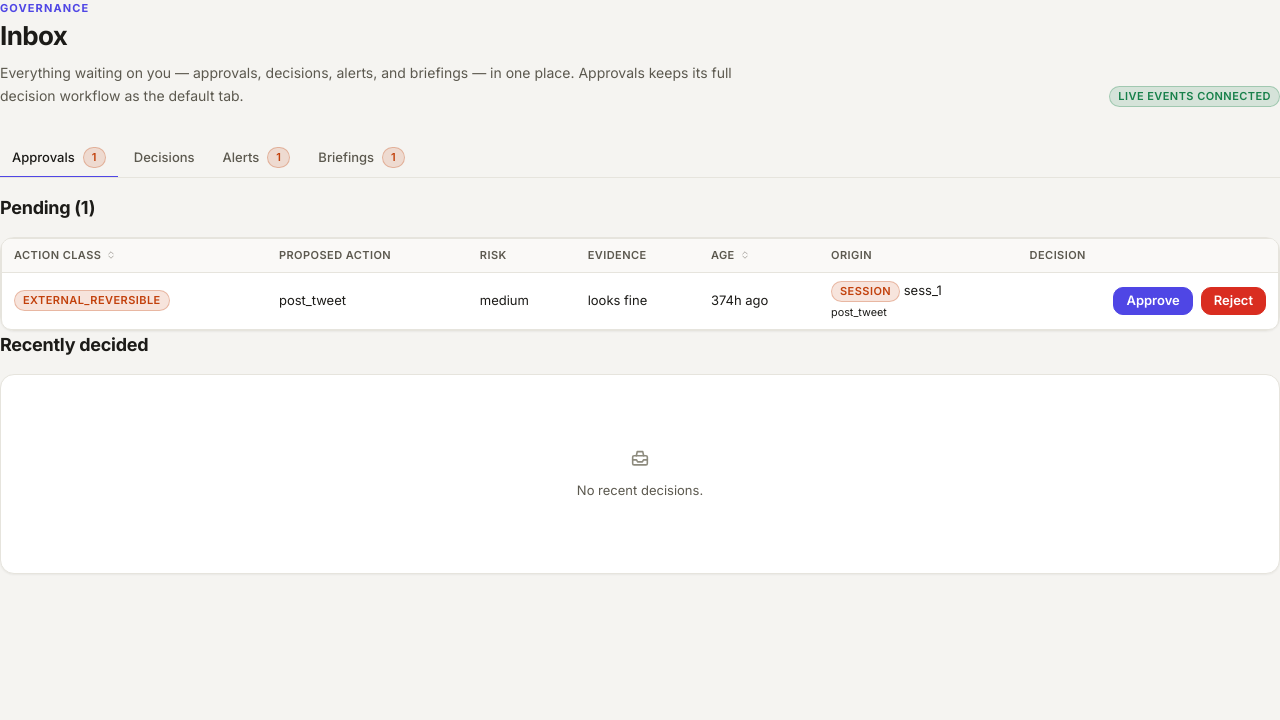
Inbox (/inbox tabbed shell) › opens the decide dialog from the default Approvals tab
Step 1. Click the button "Approve" → (1153, 301), box [1113, 287, 1193, 315]
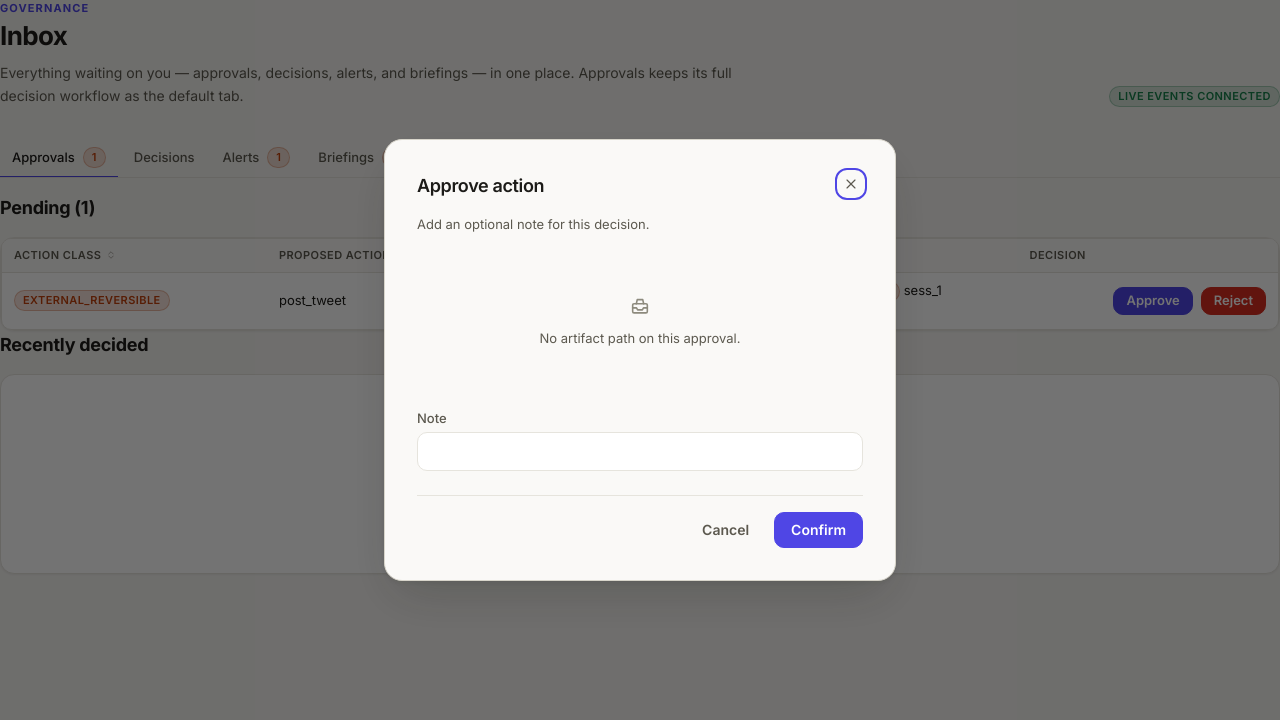
Expected: the heading "Approve action" is shown, [417, 172, 544, 199]
